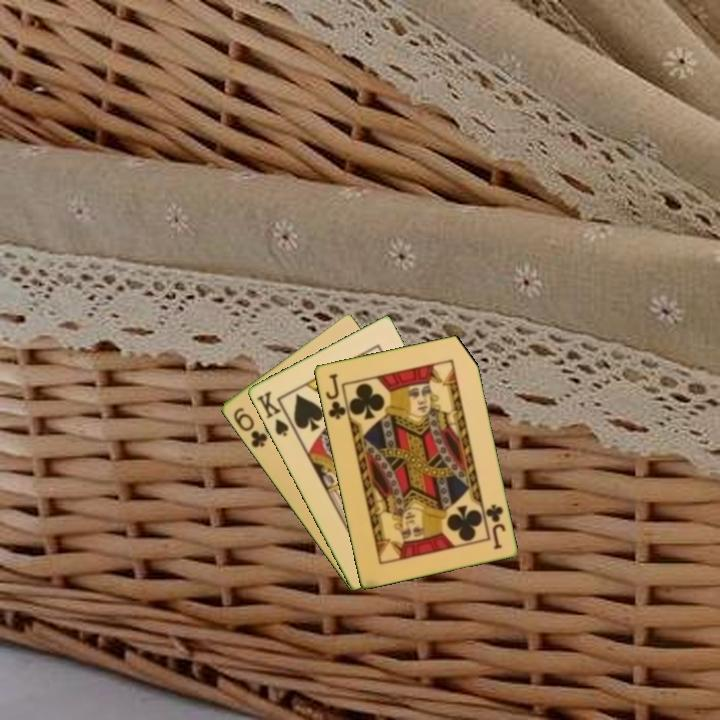6c: (229, 404, 270, 451)
Jc: (322, 370, 348, 422), (482, 501, 508, 552)
Ks: (253, 387, 296, 439)
